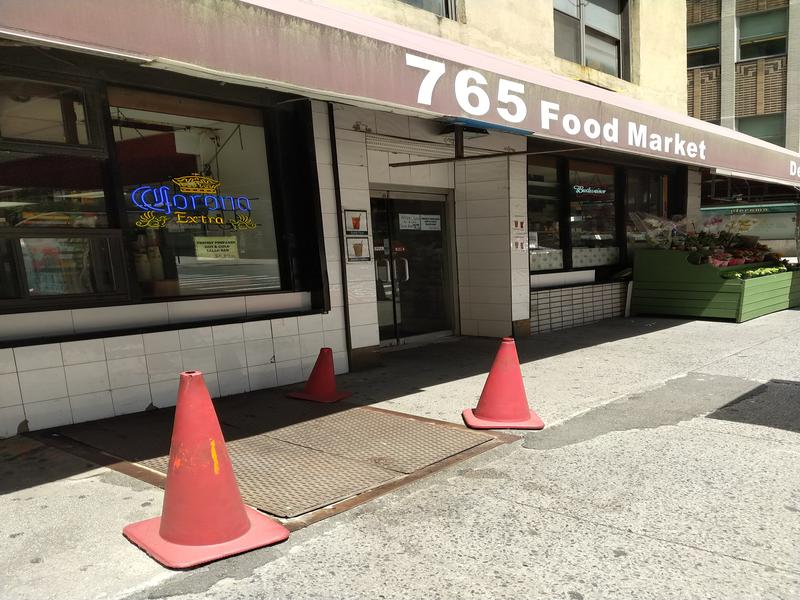double_door: (369, 182, 468, 347)
